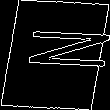N_E: (2, 33, 108, 77)
